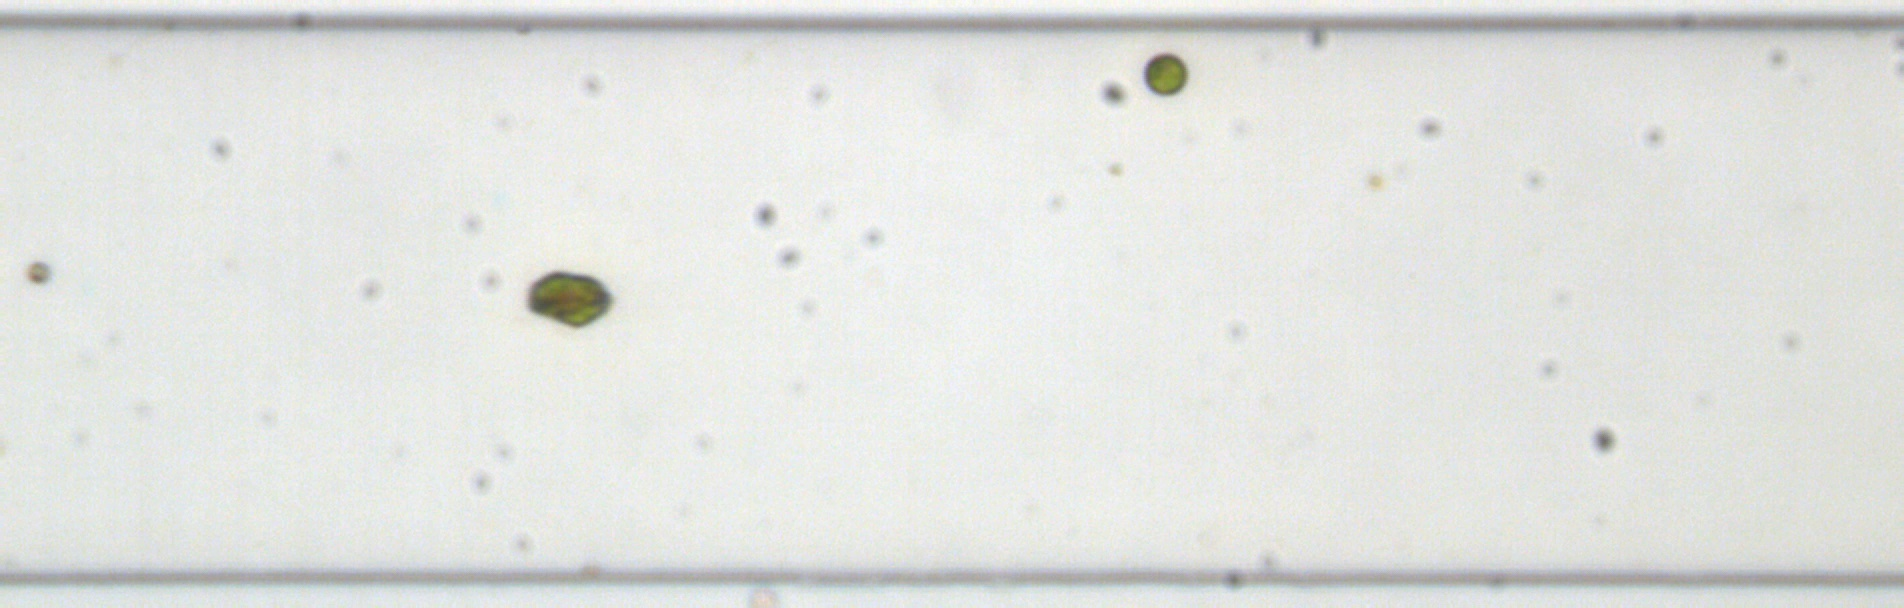Chlorella: (22, 258, 51, 285), (1106, 158, 1126, 177), (1365, 171, 1384, 188)
Haematococcus: (525, 267, 612, 333)
Platymonas: (1139, 49, 1191, 98)
